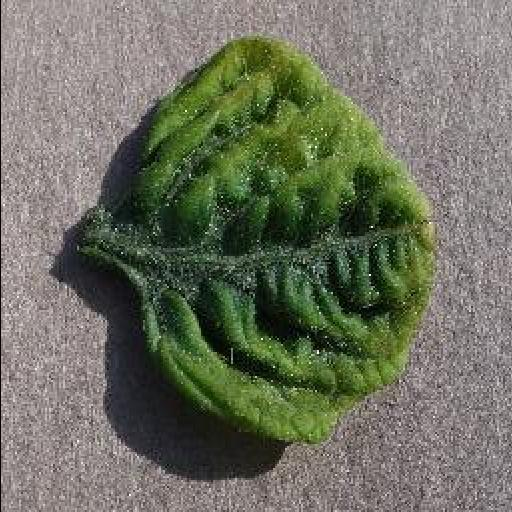disease_tomato: (120, 35, 440, 440)
